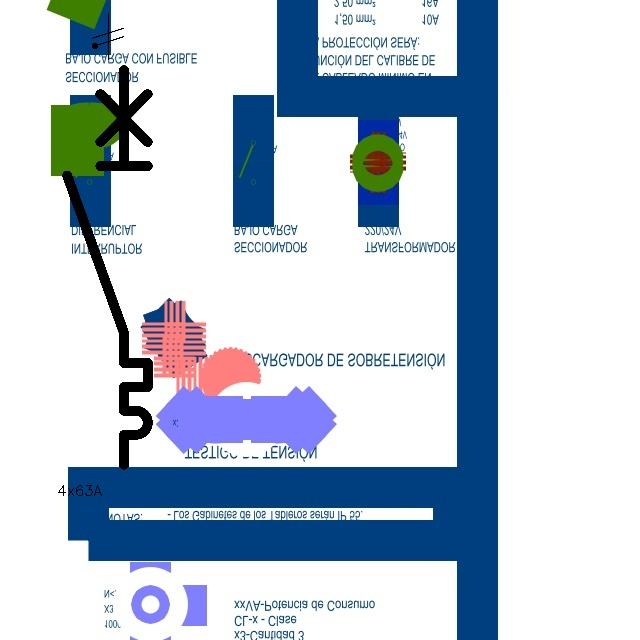interruptor_termomagnetico: (57, 59, 158, 474)
